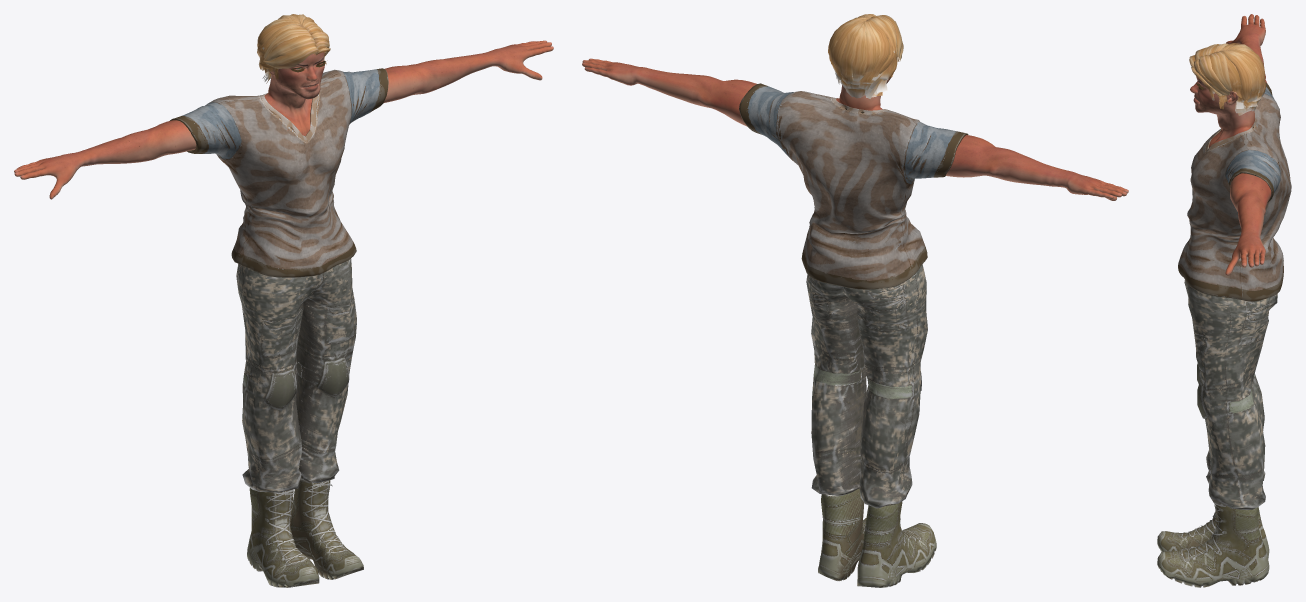
The model's file is Sasha.obj.
3 views of the same model, side by side, from view 1: azimuth 30°, elevation 25°; view 2: azimuth 150°, elevation 25°; view 3: azimuth 270°, elevation 25° (orthographic). The views are drawn at different scales.
Parts seen in each view (by area): view 1: Topsmesh, Bottomsmesh, Bodymesh, Shoesmesh, Hairmesh; view 2: Topsmesh, Bottomsmesh, Bodymesh, Shoesmesh, Hairmesh; view 3: Topsmesh, Bottomsmesh, Shoesmesh, Bodymesh, Hairmesh.
Part boxes in pixels (left/top/right/bottom): Topsmesh: left=170, top=68, right=388, bottom=277; Bottomsmesh: left=236, top=259, right=356, bottom=493; Bodymesh: left=14, top=24, right=553, bottom=199; Shoesmesh: left=247, top=480, right=363, bottom=587; Hairmesh: left=257, top=14, right=330, bottom=83; Topsmesh: left=739, top=83, right=968, bottom=289; Bottomsmesh: left=806, top=264, right=927, bottom=508; Bodymesh: left=582, top=19, right=1128, bottom=200; Shoesmesh: left=818, top=488, right=936, bottom=587; Hairmesh: left=828, top=14, right=903, bottom=98; Topsmesh: left=1178, top=82, right=1291, bottom=301; Bottomsmesh: left=1184, top=280, right=1277, bottom=509; Shoesmesh: left=1157, top=504, right=1269, bottom=587; Bodymesh: left=1190, top=14, right=1271, bottom=275; Hairmesh: left=1189, top=43, right=1265, bottom=115.
Size of the model in its own units: 231 by 224 by 52.23.
